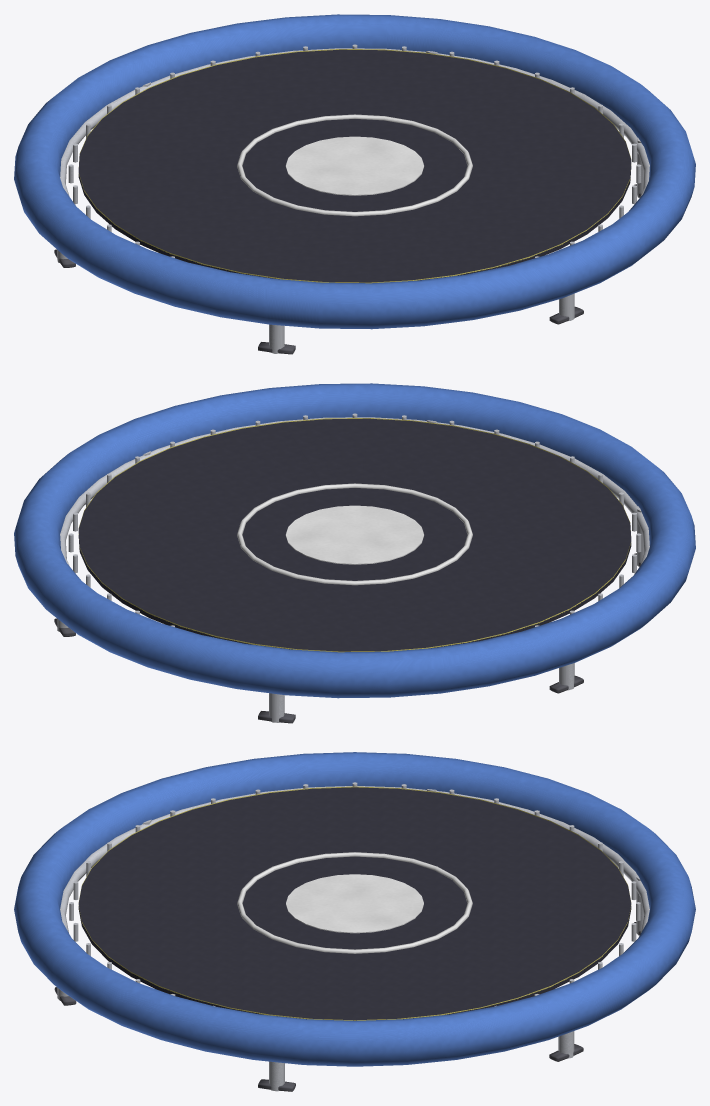
The model's file is trampoline.glb.
3 renders of one model, top to bottom at view 1: azimuth 30°, elevation 25°; view 2: azimuth 150°, elevation 25°; view 3: azimuth 270°, elevation 25°, orthographic.
Visible parts, largest first — view 1: trampoline_body; view 2: trampoline_body; view 3: trampoline_body.
Boxes of the visible parts, x1,y1,x2,y2 form: trampoline_body: (14,14,695,354); trampoline_body: (14,383,695,723); trampoline_body: (14,752,695,1091).
Size of the model in its own units: 2.96 by 0.3705 by 2.96.
6 materials, 6 textured.
